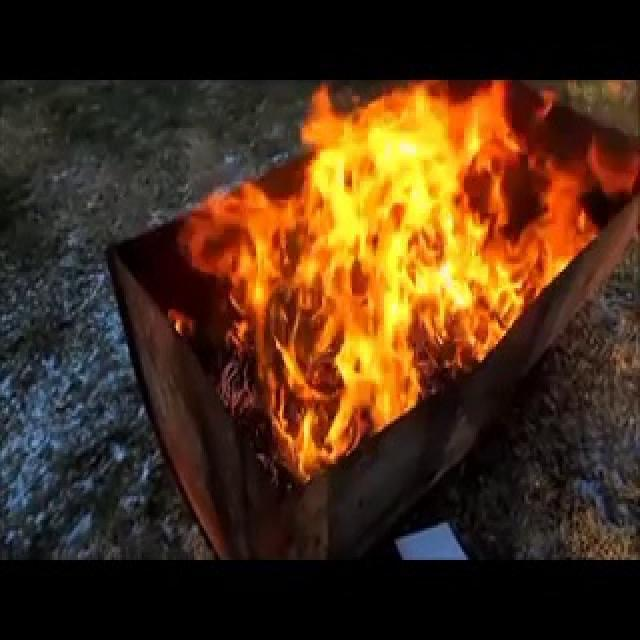fire: (213, 85, 575, 488)
